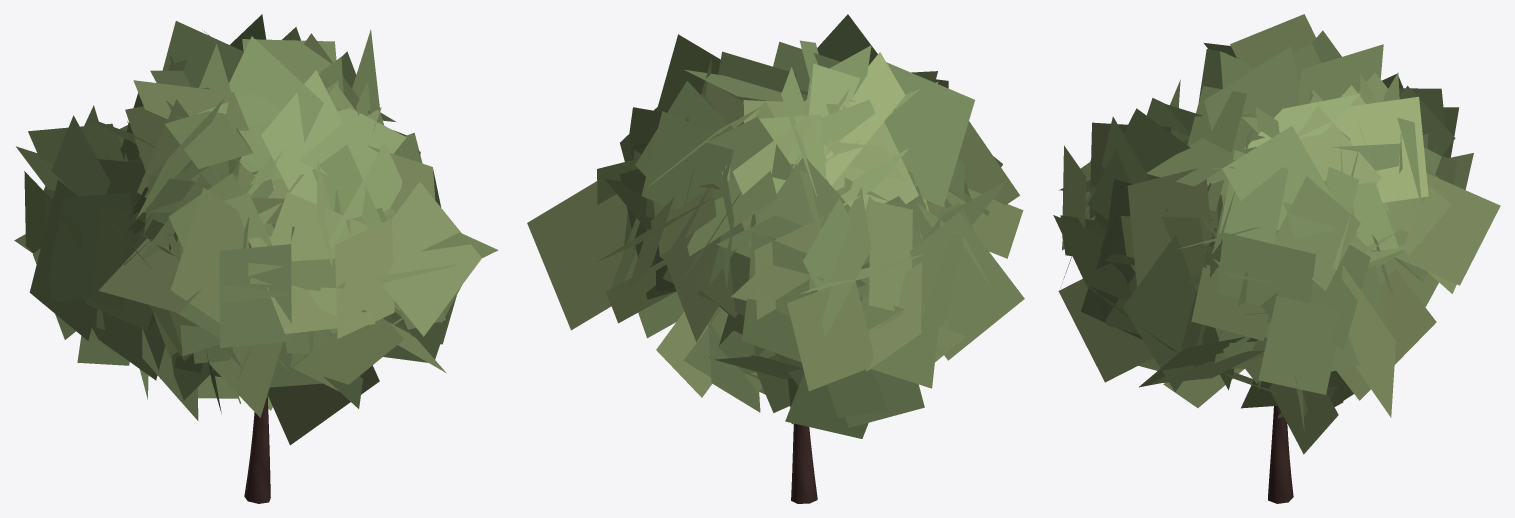
File: cherry_lod1.glb
3 views of the same model, side by side, from view 1: azimuth 30°, elevation 25°; view 2: azimuth 150°, elevation 25°; view 3: azimuth 270°, elevation 25° (orthographic). The views are drawn at different scales.
Visible parts, largest first — view 1: cherry_lod1; view 2: cherry_lod1; view 3: cherry_lod1.
Part boxes in pixels (x1=…): cherry_lod1: x1=14, y1=14, x2=498, y2=503; cherry_lod1: x1=527, y1=14, x2=1024, y2=503; cherry_lod1: x1=1053, y1=14, x2=1500, y2=503.
Bounding box in the file's own units: 1 × 1 × 0.8973.
